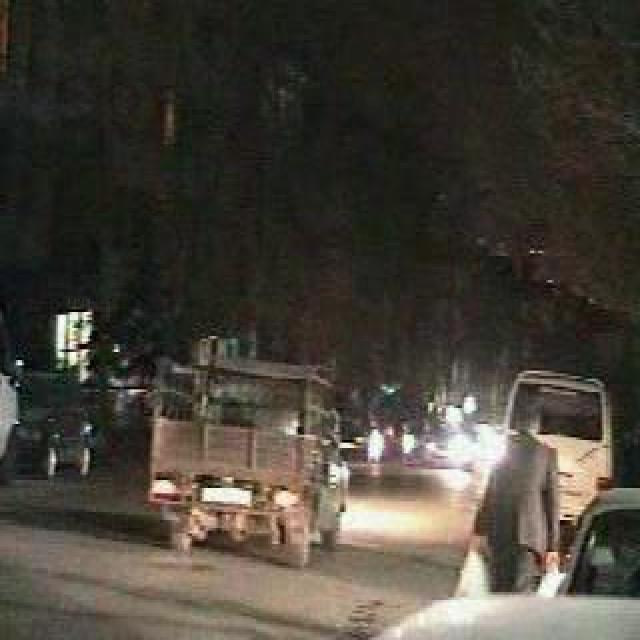other: (444, 384, 510, 474), (332, 492, 421, 536)
